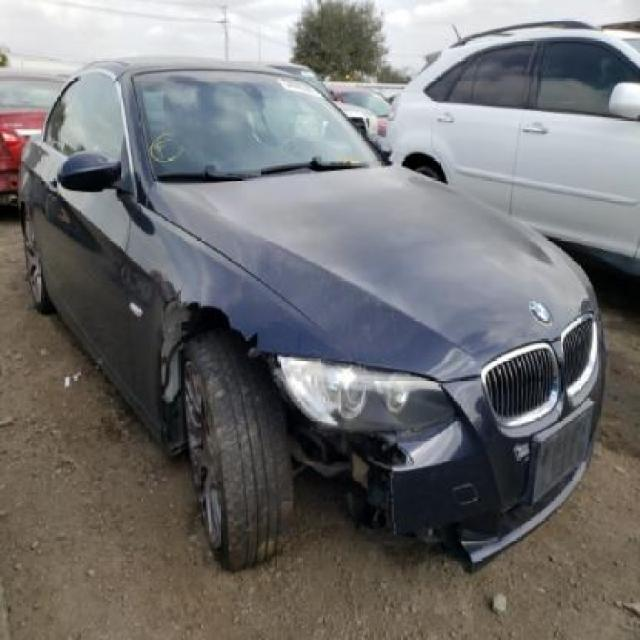minor: (178, 291, 500, 545)
